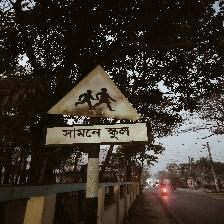School-in-front: (42, 64, 148, 150)
